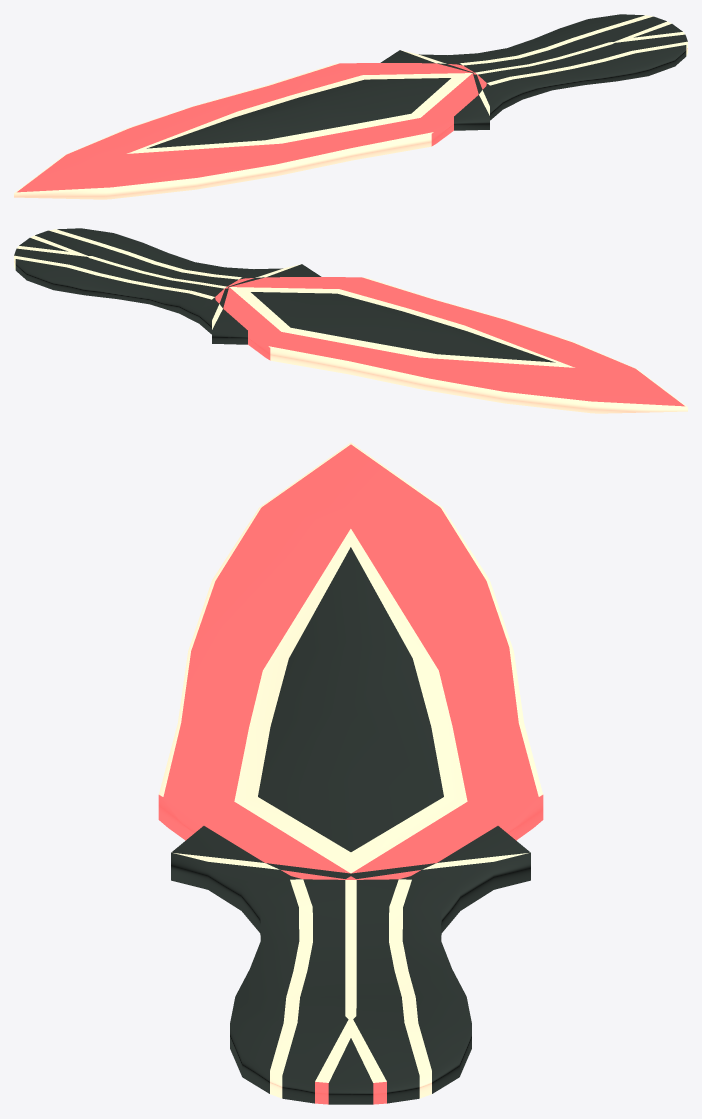
File: ThrowingKnife.fbx
3 renders of one model, top to bottom at view 1: azimuth 30°, elevation 25°; view 2: azimuth 150°, elevation 25°; view 3: azimuth 270°, elevation 25°, orthographic. The views are drawn at different scales.
Parts seen in each view (by area): view 1: Knife; view 2: Knife; view 3: Knife.
Part boxes in pixels (x1,y1,x2,y2): Knife: (14,14,687,199); Knife: (14,228,687,413); Knife: (158,442,543,1104).
Size of the model in its own units: 751 by 38.01 by 188.
